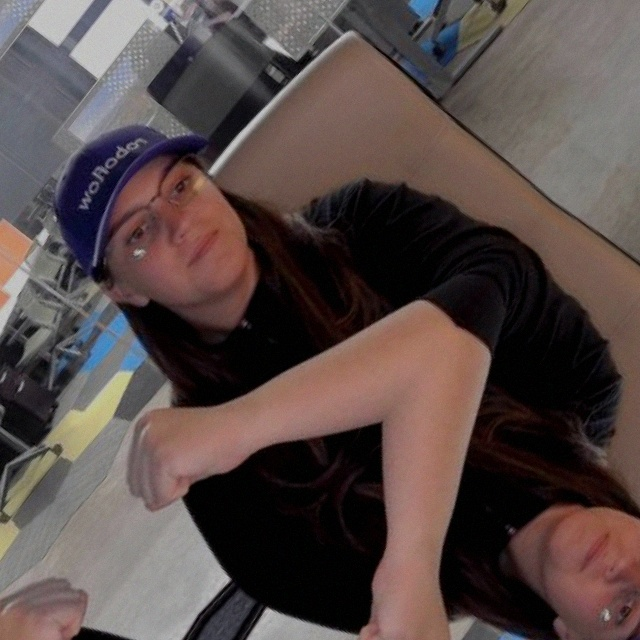Rock: (0, 545, 131, 640)
